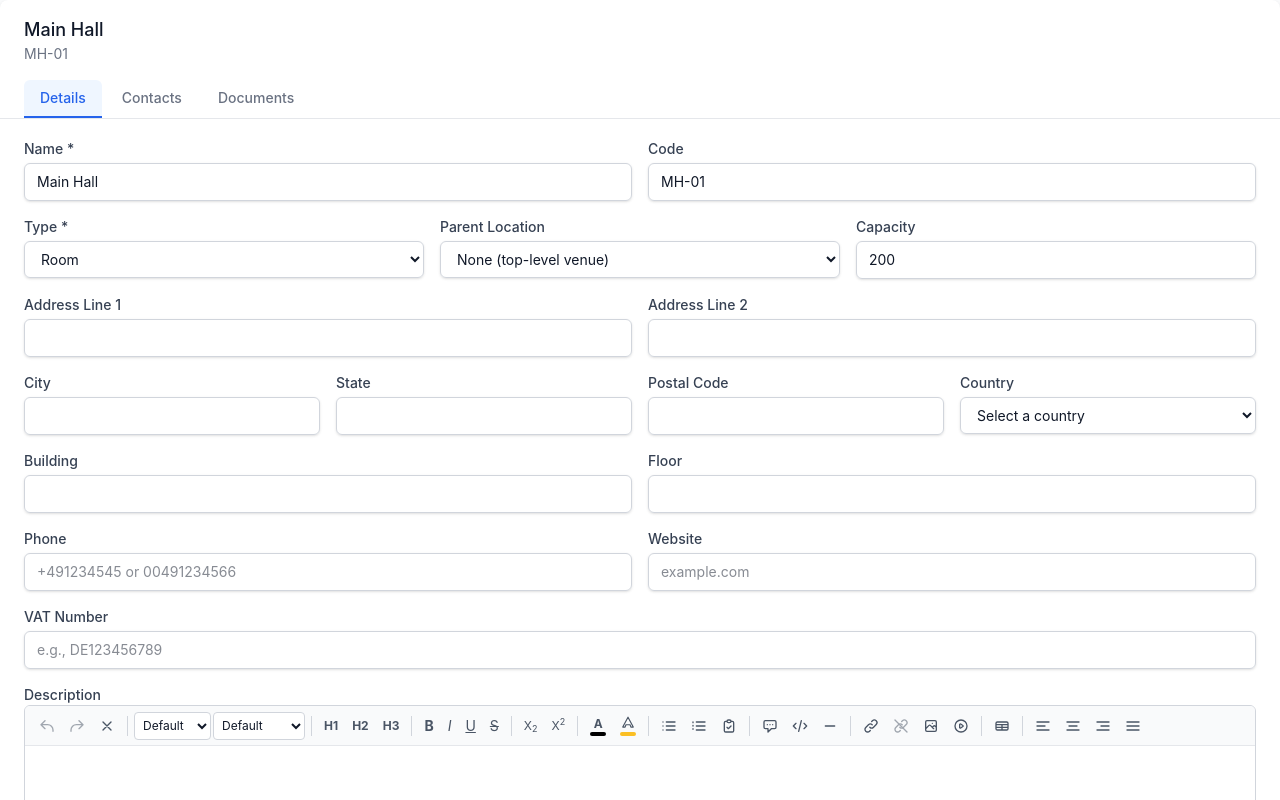
Test: LocationDetailPanel › virtual location fields › shows platform and URL fields for virtual location
The image size is (1280, 800).
// Change location type to virtual
Select "Virtual" in the dropdown showing "Room" below "Type *" at (224, 260), box [24,241,424,278]
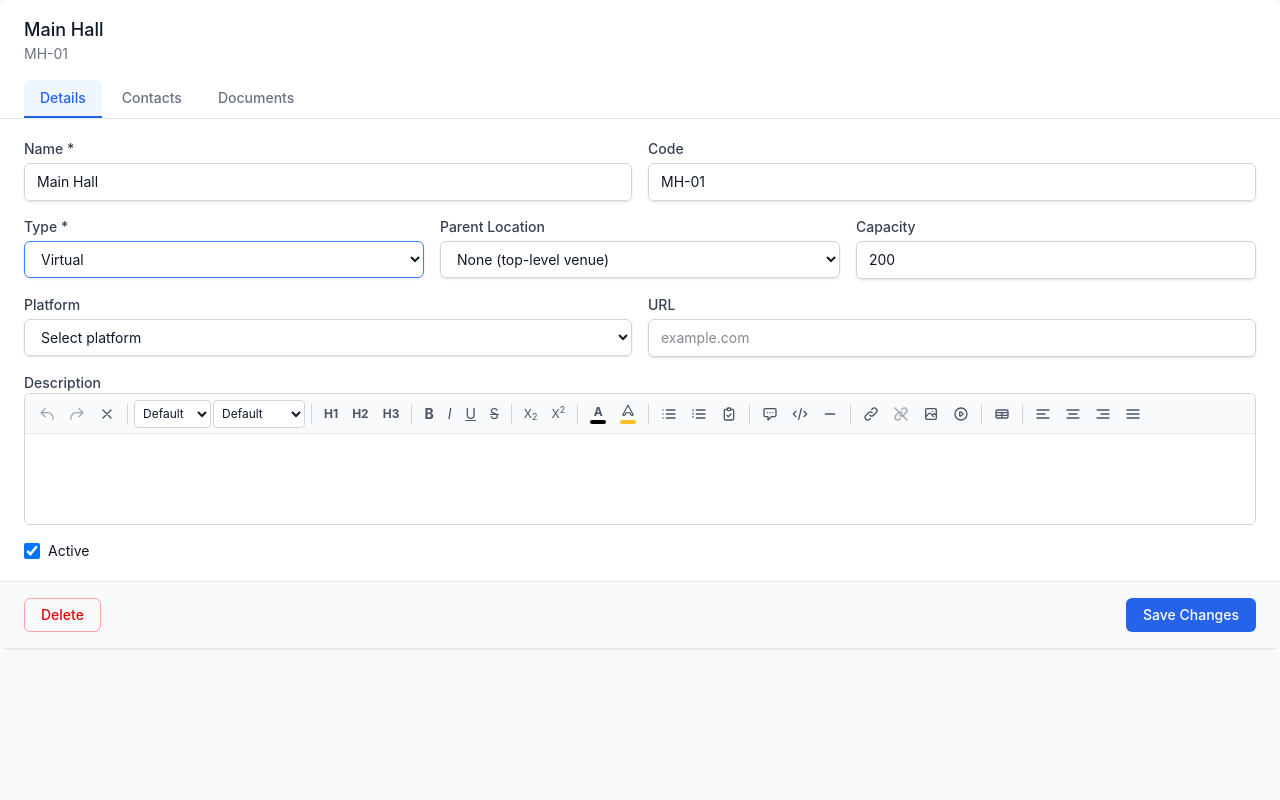
Expected: the text "Platform" is shown, [24,296,80,313]
Expected: the text "Building" is gone
